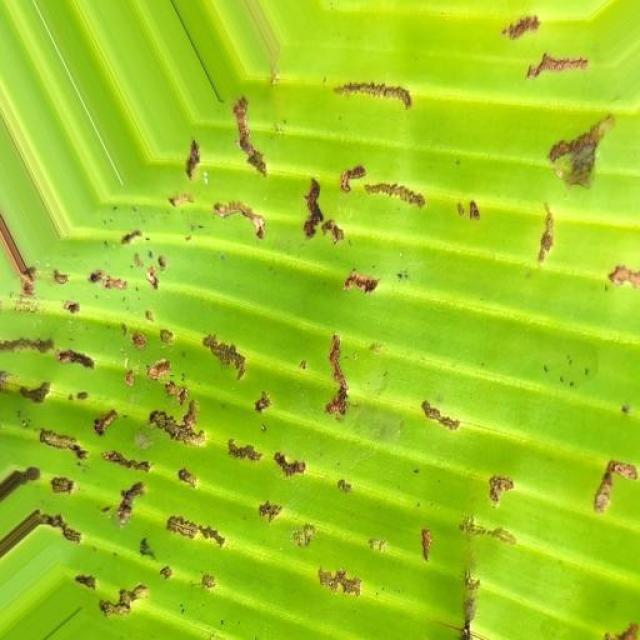Black_rot: (0, 7, 640, 638)
